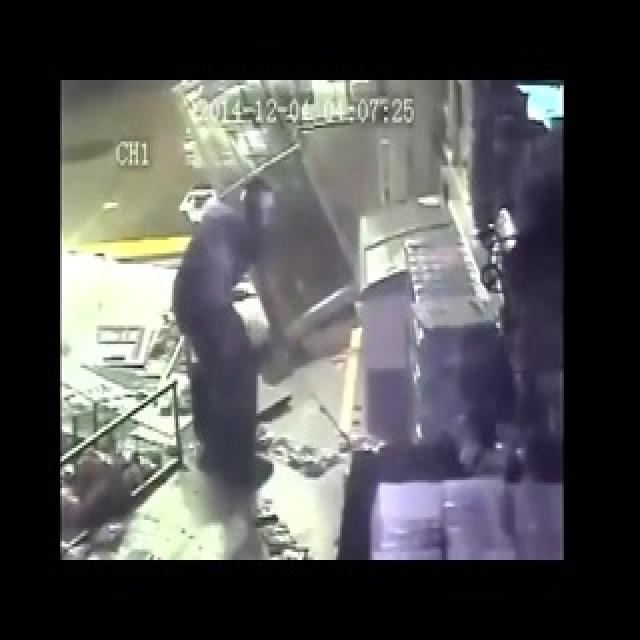thief: (226, 169, 299, 259)
